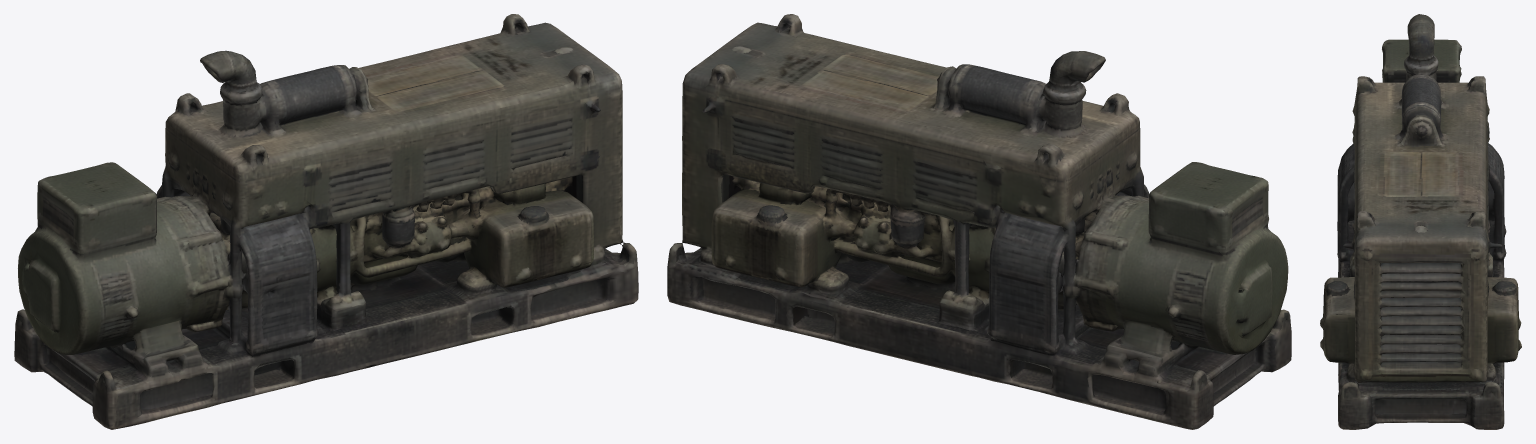
File: source.glb
3 views of the same model, side by side, from view 1: azimuth 30°, elevation 25°; view 2: azimuth 150°, elevation 25°; view 3: azimuth 270°, elevation 25° (orthographic). The views are drawn at different scales.
Parts seen in each view (by area): view 1: BunkerDieselGenerator; view 2: BunkerDieselGenerator; view 3: BunkerDieselGenerator.
Boxes of the visible parts, x1,y1,x2,y2 form: BunkerDieselGenerator: (14,14,638,429); BunkerDieselGenerator: (667,14,1291,429); BunkerDieselGenerator: (1320,14,1521,429).
Size of the model in its own units: 3.2 by 1.7 by 1.2.
Materials: 1 (1 with a texture image).
